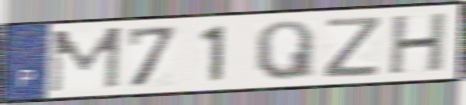1: (197, 23, 232, 84)
7: (125, 23, 181, 90)
H: (386, 10, 451, 77)
M: (46, 24, 125, 95)
Q: (252, 18, 318, 82)
Z: (320, 15, 384, 80)
